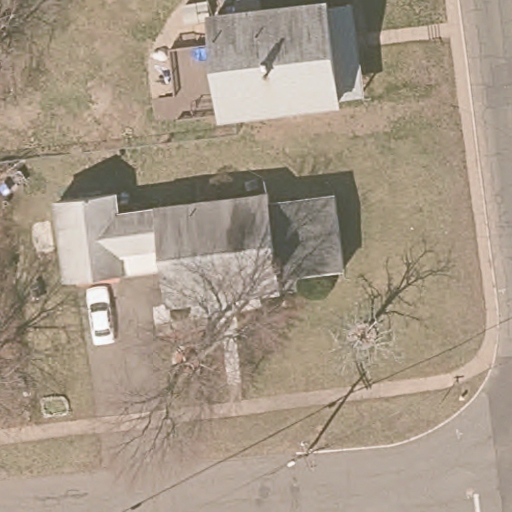DT: (286, 439, 326, 472)
